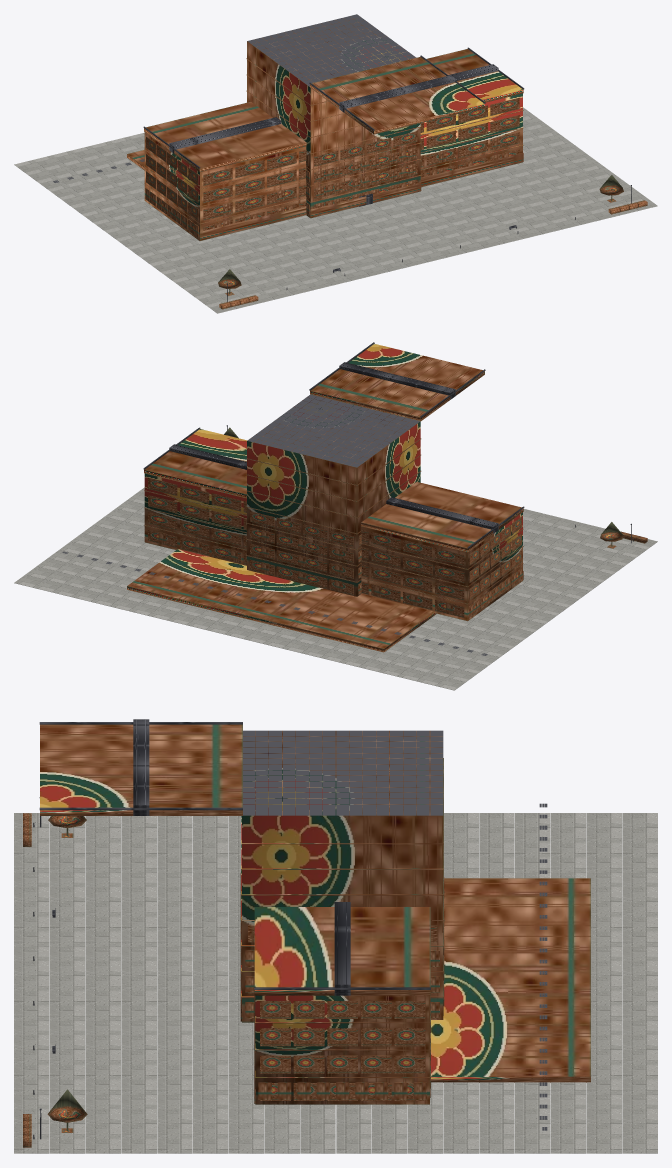
3 renders of one model, top to bottom at view 1: azimuth 30°, elevation 25°; view 2: azimuth 150°, elevation 25°; view 3: azimuth 270°, elevation 25°, orthographic. The views are drawn at different scales.
Parts seen in each view (by area): view 1: 11680_01_05787_024_02__mass_body_facade, 11680_01_05787_024_01__plinth_ground_base, 11680_01_05787_024_03__roof_deck_structure, 11680_01_05787_024_03__roof_metal_ornament, 11680_01_05787_024_05__window_sash_glass, 11680_01_05787_024_06__landscape_greenery; view 2: 11680_01_05787_024_02__mass_body_facade, 11680_01_05787_024_01__plinth_ground_base, 11680_01_05787_024_03__roof_deck_structure, 11680_01_05787_024_03__roof_metal_ornament, 11680_01_05787_024_06__landscape_greenery; view 3: 11680_01_05787_024_01__plinth_ground_base, 11680_01_05787_024_02__mass_body_facade, 11680_01_05787_024_03__roof_deck_structure, 11680_01_05787_024_03__roof_metal_ornament, 11680_01_05787_024_06__landscape_greenery.
Boxes of the visible parts, x1,y1,x2,y2 form: 11680_01_05787_024_02__mass_body_facade: [127, 16, 523, 240]; 11680_01_05787_024_01__plinth_ground_base: [14, 107, 657, 313]; 11680_01_05787_024_03__roof_deck_structure: [53, 14, 416, 182]; 11680_01_05787_024_03__roof_metal_ornament: [143, 47, 524, 168]; 11680_01_05787_024_05__window_sash_glass: [223, 136, 500, 231]; 11680_01_05787_024_06__landscape_greenery: [218, 175, 647, 309]; 11680_01_05787_024_02__mass_body_facade: [127, 343, 523, 652]; 11680_01_05787_024_01__plinth_ground_base: [14, 487, 657, 690]; 11680_01_05787_024_03__roof_deck_structure: [62, 394, 487, 655]; 11680_01_05787_024_03__roof_metal_ornament: [143, 342, 524, 548]; 11680_01_05787_024_06__landscape_greenery: [224, 427, 647, 548]; 11680_01_05787_024_01__plinth_ground_base: [14, 813, 657, 1153]; 11680_01_05787_024_02__mass_body_facade: [40, 724, 590, 1104]; 11680_01_05787_024_03__roof_deck_structure: [243, 730, 547, 1130]; 11680_01_05787_024_03__roof_metal_ornament: [39, 719, 430, 995]; 11680_01_05787_024_06__landscape_greenery: [23, 813, 87, 1147].
Size of the model in its own units: 120 by 36.4 by 95.95.
7 materials, 7 textured.
